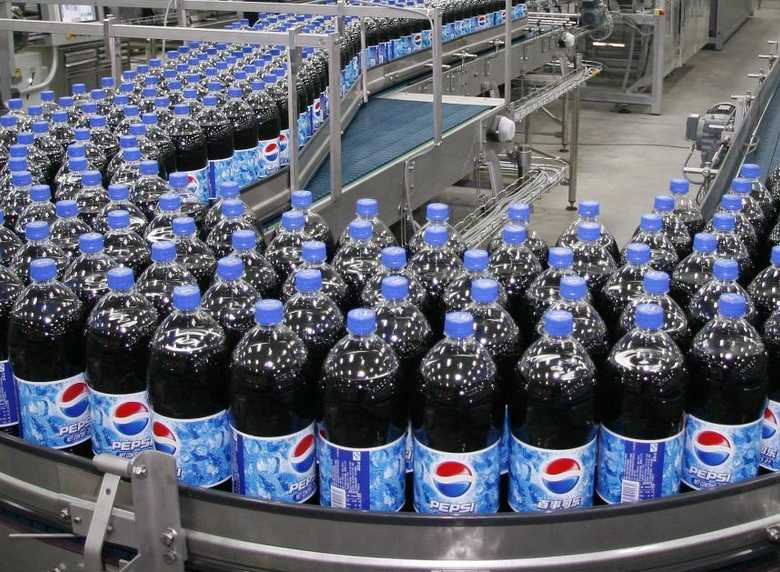pepsi: (694, 423, 732, 467), (109, 395, 149, 434), (431, 457, 471, 496), (541, 454, 579, 491), (149, 417, 178, 459), (56, 384, 91, 417), (289, 433, 314, 471), (260, 141, 281, 158), (186, 171, 203, 191), (278, 132, 287, 150)
